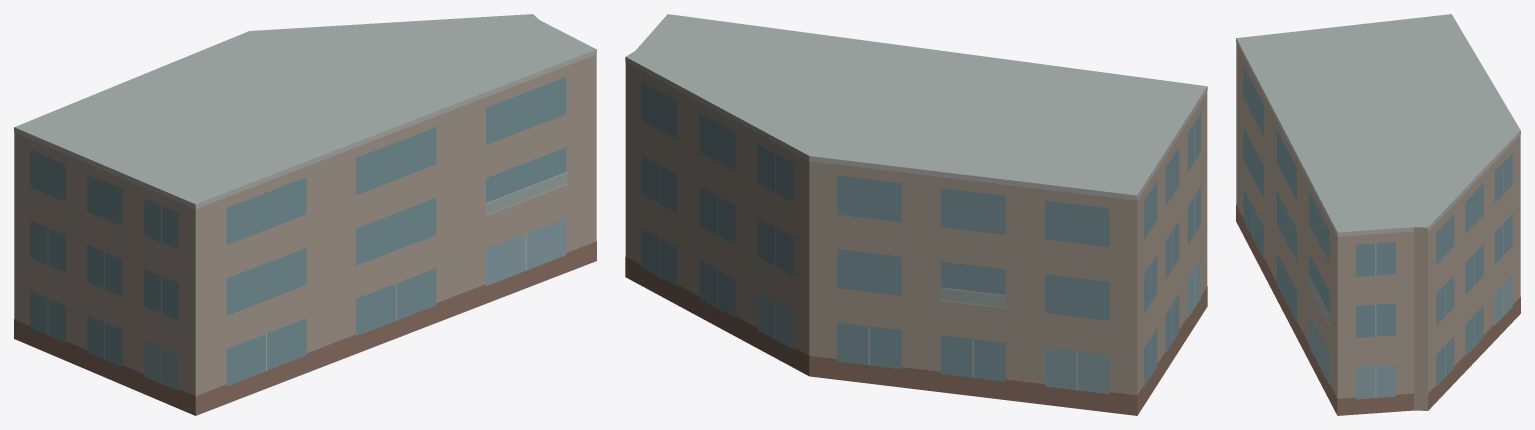
Rendered from survey-upis-32717915.glb.
3 views of the same model, side by side, from view 1: azimuth 30°, elevation 25°; view 2: azimuth 150°, elevation 25°; view 3: azimuth 270°, elevation 25° (orthographic). The views are drawn at different scales.
Parts seen in each view (by area): view 1: survey-upis-32717915.tmp; view 2: survey-upis-32717915.tmp; view 3: survey-upis-32717915.tmp.
Boxes of the visible parts, x1,y1,x2,y2 form: survey-upis-32717915.tmp: (14,14,596,415); survey-upis-32717915.tmp: (625,14,1207,415); survey-upis-32717915.tmp: (1236,14,1520,415).
Size of the model in its own units: 26.33 by 10.3 by 14.5.
